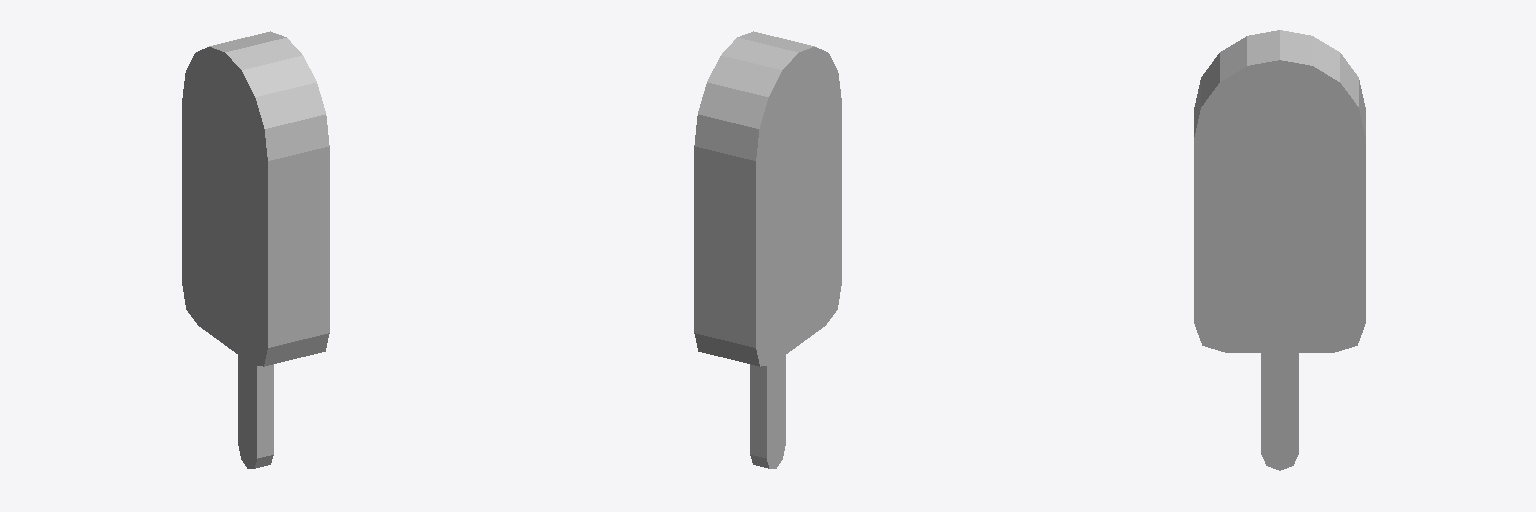
The model's file is popsicle.obj.
3 views of the same model, side by side, from view 1: azimuth 30°, elevation 25°; view 2: azimuth 150°, elevation 25°; view 3: azimuth 270°, elevation 25° (orthographic).
Visible parts, largest first — view 1: popsicle; view 2: popsicle; view 3: popsicle.
Boxes of the visible parts, <box> form: popsicle: <box>182,31,329,468</box>; popsicle: <box>694,31,841,468</box>; popsicle: <box>1194,30,1365,470</box>.
Bounding box in the file's own units: 0.075 × 0.49 × 0.18.